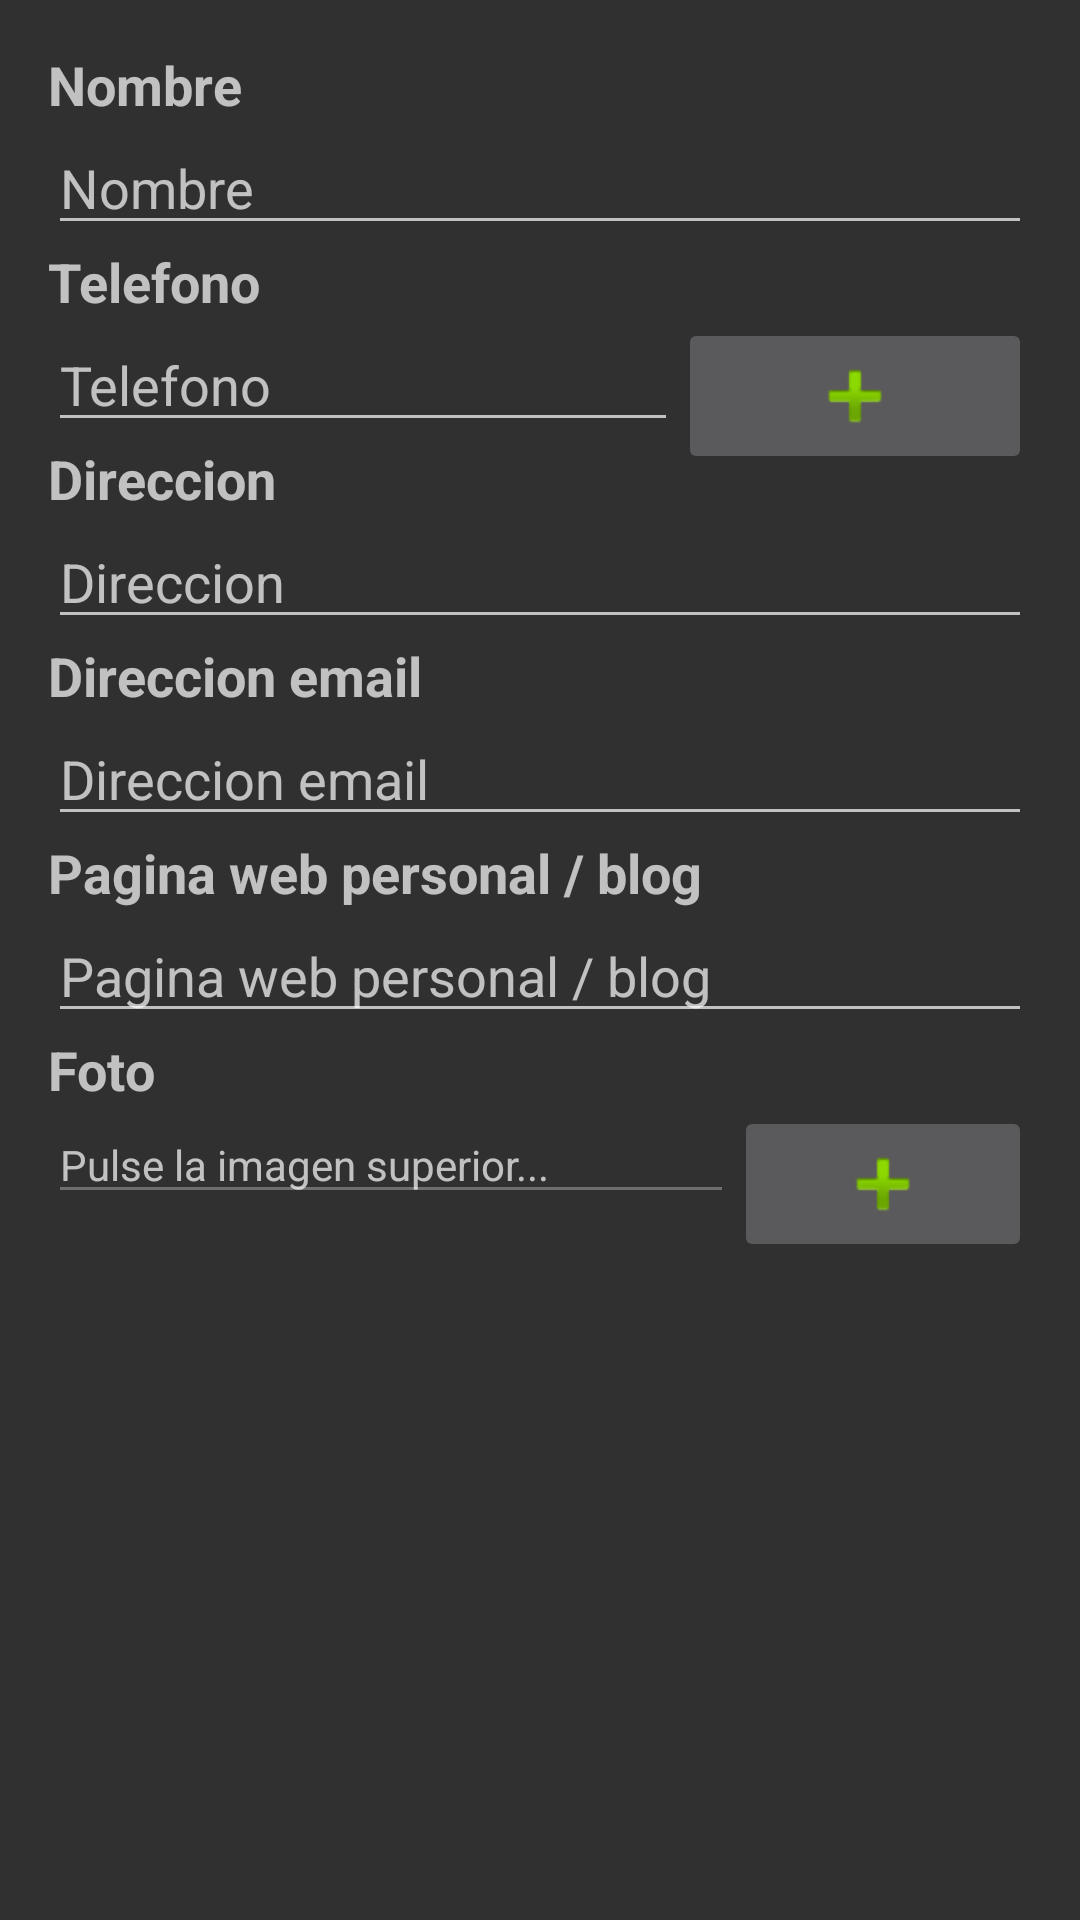

Where to tap for icons on this 1080 × 1920 app screen, as (x=x, y=y):
add: (x=855, y=396), (x=883, y=1184)
